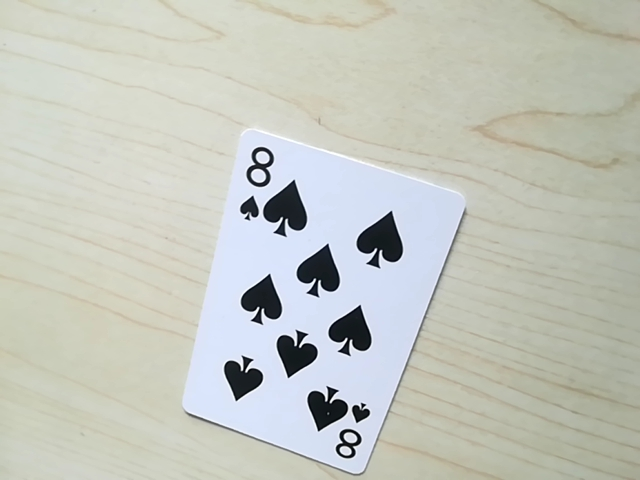ht 8: (231, 135, 284, 218), (321, 407, 374, 467)
